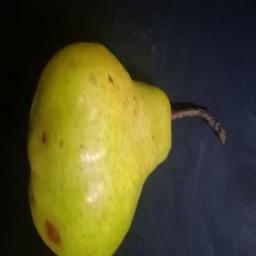Pear Semifresh: (24, 41, 232, 256)
